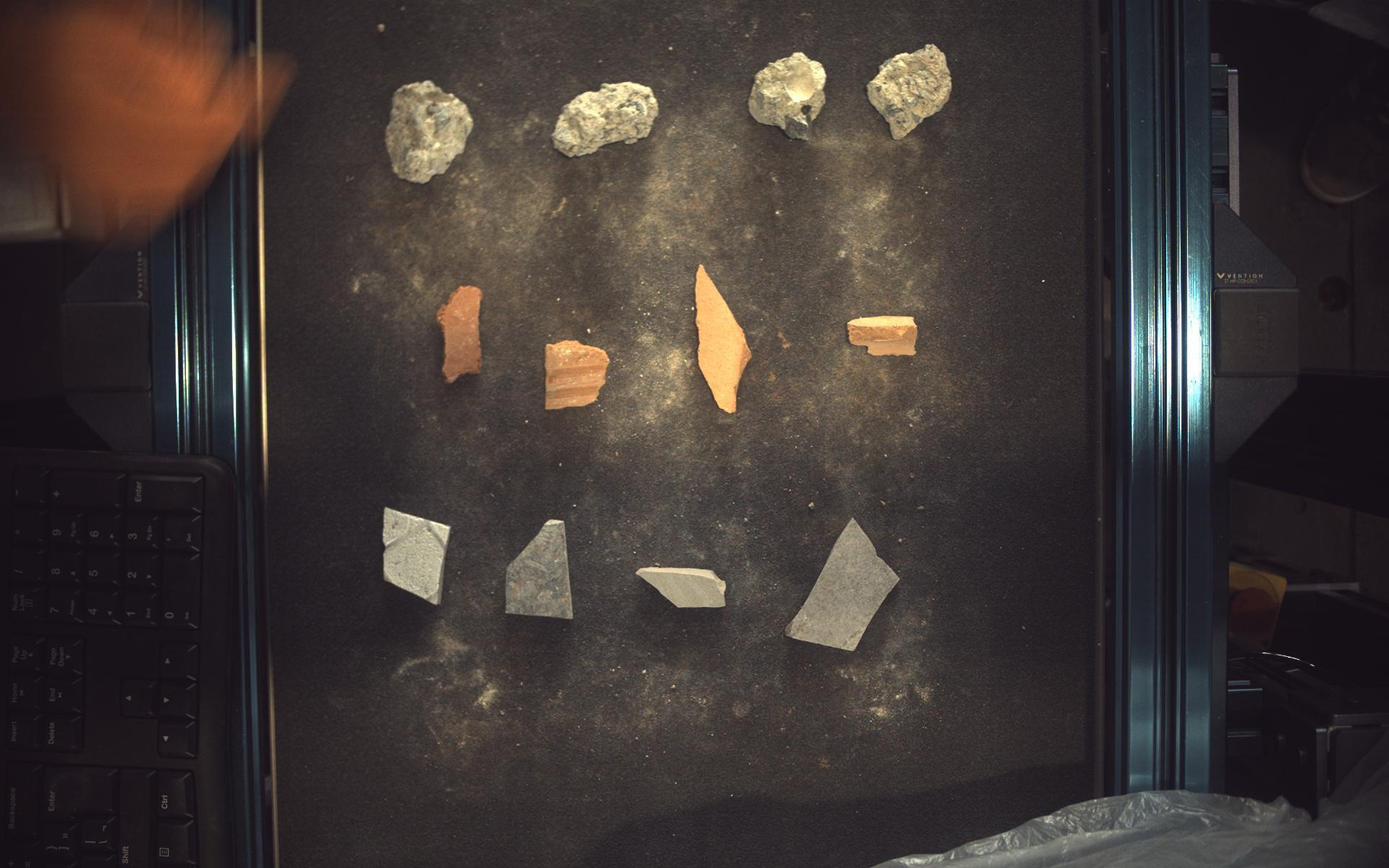brick: (697, 264, 753, 413), (545, 340, 610, 409), (437, 286, 483, 383), (849, 315, 919, 356)
concrete: (385, 79, 473, 182), (553, 80, 659, 156), (870, 43, 953, 139), (749, 51, 828, 140)
tile: (787, 519, 901, 652), (506, 520, 574, 620), (382, 509, 451, 605), (637, 568, 727, 608)
